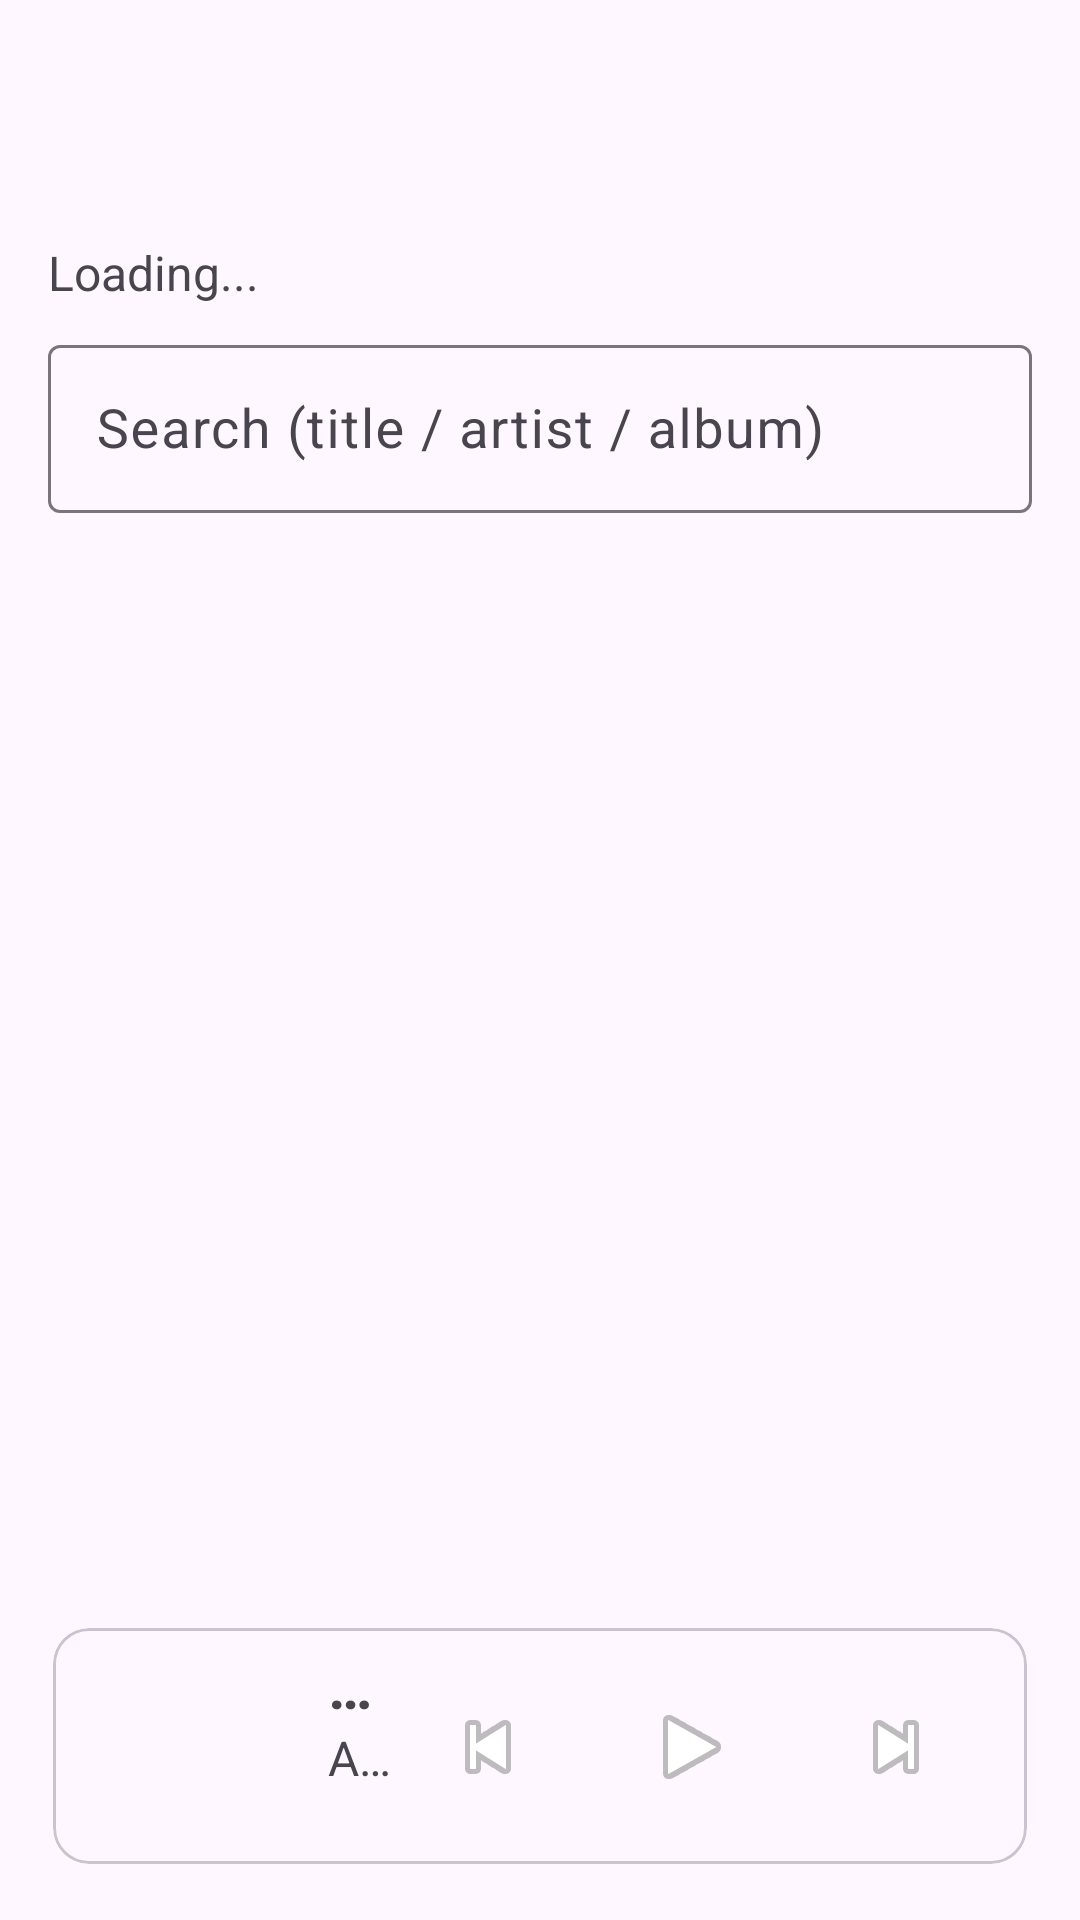

Screen size 1080px×1920px. Icon name, then its box in pixels as detection(x1, y1, x2, y2):
Next: detection(873, 1720, 919, 1774)
Play/Pause: detection(663, 1715, 721, 1779)
Previous: detection(465, 1720, 511, 1774)
